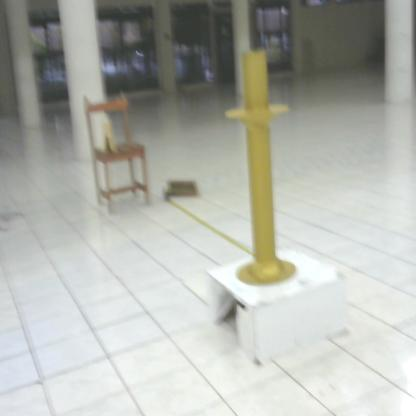pole: (221, 43, 306, 295)
